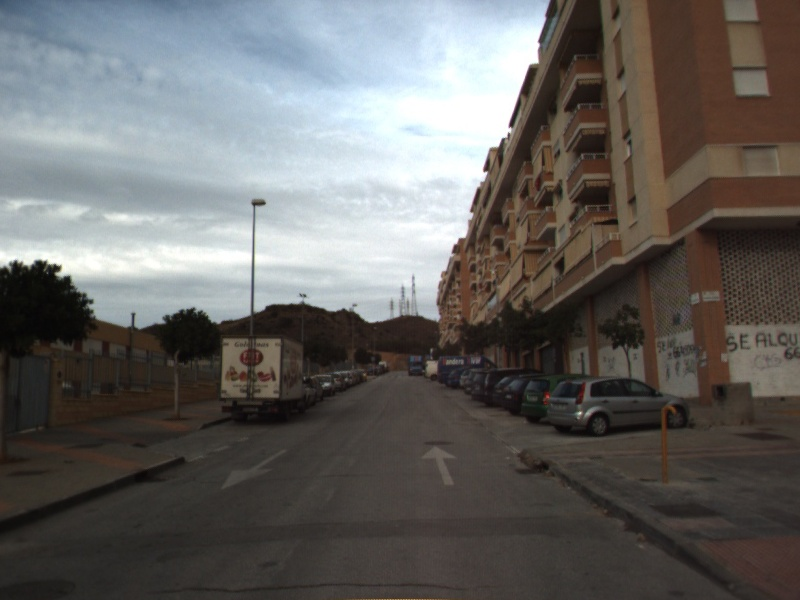STRAIGHT: (418, 443, 459, 487)
